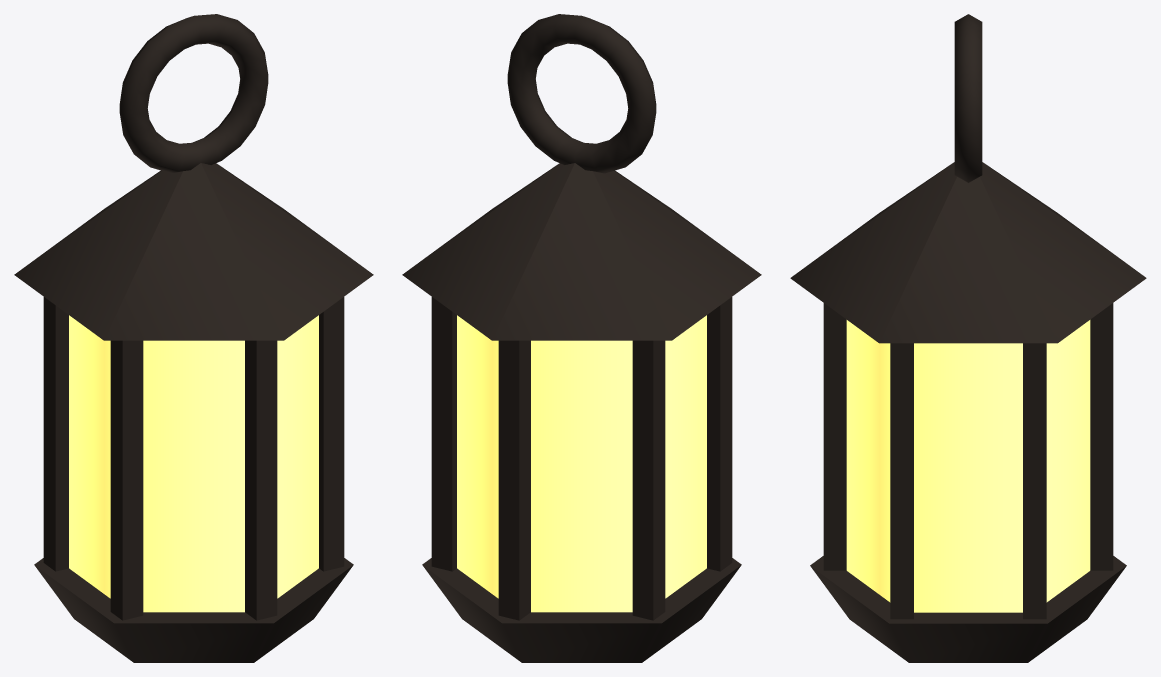
The model's file is standin-lantern.glb.
3 renders of one model, left to right at view 1: azimuth 30°, elevation 25°; view 2: azimuth 150°, elevation 25°; view 3: azimuth 270°, elevation 25°, orthographic.
Parts seen in each view (by area): view 1: glass, cap, bar (×4), base, ring; view 2: glass, cap, bar (×4), base, ring; view 3: glass, cap, bar (×4), base, ring.
Part boxes in pixels (bbox=[...]): glass: bbox=[69, 315, 318, 612]; cap: bbox=[14, 163, 373, 340]; bar (×4): bbox=[43, 297, 344, 620]; base: bbox=[34, 558, 353, 662]; ring: bbox=[119, 14, 268, 173]; glass: bbox=[457, 315, 706, 612]; cap: bbox=[402, 163, 761, 340]; bar (×4): bbox=[431, 297, 732, 620]; base: bbox=[422, 558, 741, 662]; ring: bbox=[507, 14, 656, 173]; glass: bbox=[846, 320, 1090, 612]; cap: bbox=[790, 162, 1146, 343]; bar (×4): bbox=[823, 303, 1113, 619]; base: bbox=[810, 556, 1126, 662]; ring: bbox=[954, 14, 982, 182].
Bounding box in the file's own units: 0.1559 × 0.333 × 0.18.
